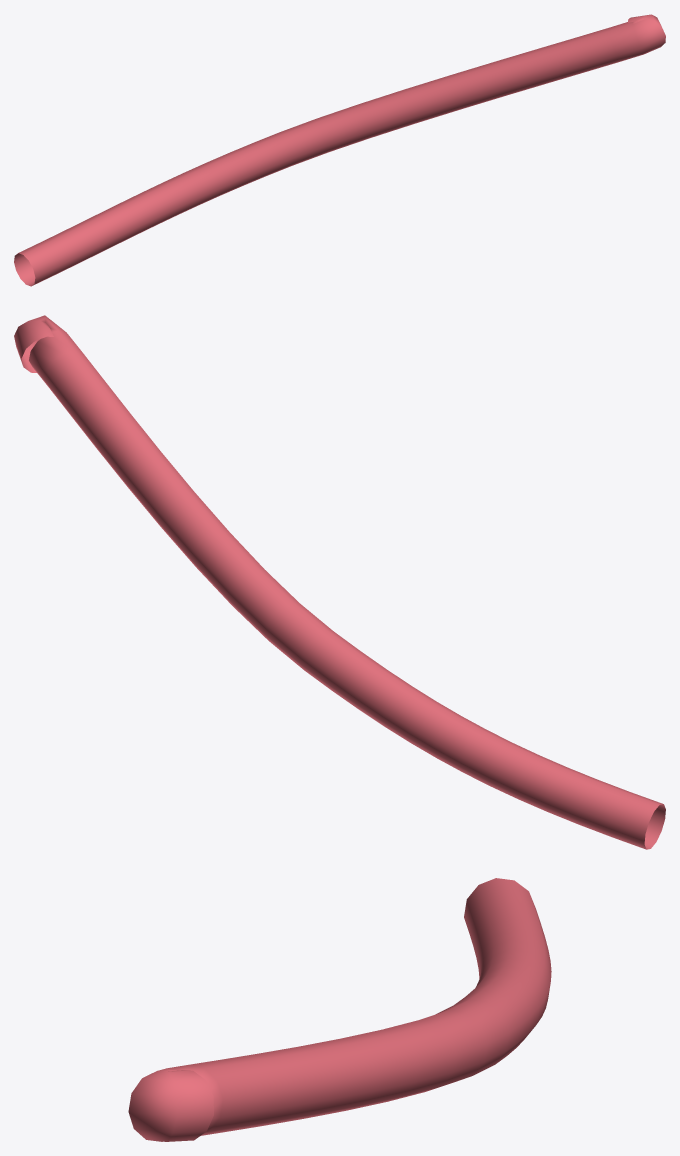
The picture shows the model from 3 angles, top to bottom: view 1: azimuth 30°, elevation 25°; view 2: azimuth 150°, elevation 25°; view 3: azimuth 270°, elevation 25°; orthographic projection. The views are drawn at different scales.
Visible parts, largest first — view 1: ZA_e2e93a0b882ad8b7; view 2: ZA_e2e93a0b882ad8b7; view 3: ZA_e2e93a0b882ad8b7.
Boxes of the visible parts, x1,y1,x2,y2 form: ZA_e2e93a0b882ad8b7: (14,14,665,286); ZA_e2e93a0b882ad8b7: (14,315,665,849); ZA_e2e93a0b882ad8b7: (128,878,551,1141).
Bounding box in the file's own units: 0.0249 × 0.00848 × 0.00817.
